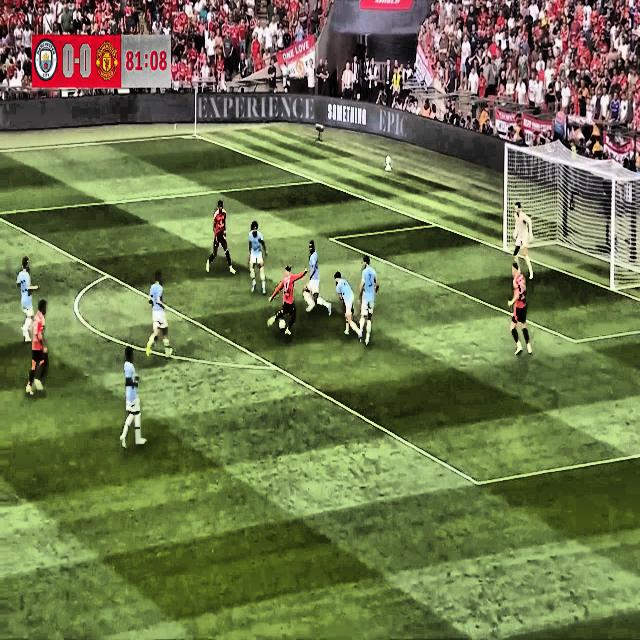ball: (278, 314, 286, 339)
players: (116, 344, 149, 451), (266, 258, 308, 336), (302, 233, 336, 329), (506, 260, 536, 362), (142, 267, 174, 359), (205, 197, 238, 277), (14, 250, 40, 348), (25, 299, 50, 400), (357, 248, 381, 350), (331, 268, 364, 340), (508, 197, 534, 287), (245, 218, 272, 300)
